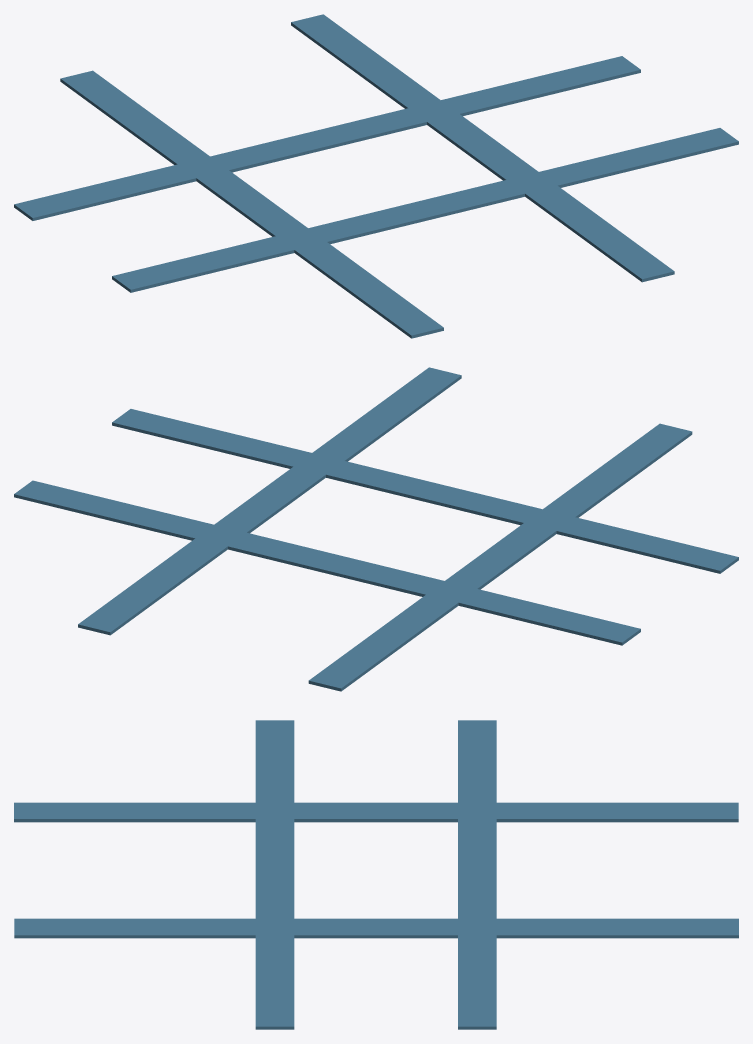
The model's file is jalan.glb.
The picture shows the model from 3 angles, top to bottom: view 1: azimuth 30°, elevation 25°; view 2: azimuth 150°, elevation 25°; view 3: azimuth 270°, elevation 25°; orthographic projection. The views are drawn at different scales.
Visible parts, largest first — view 1: Cube.004; view 2: Cube.004; view 3: Cube.004.
Boxes of the visible parts, x1=… form: Cube.004: x1=14, y1=14, x2=738, y2=338; Cube.004: x1=14, y1=367, x2=738, y2=691; Cube.004: x1=14, y1=720, x2=738, y2=1029.
Bounding box in the file's own units: 220 × 1.08 × 220.
